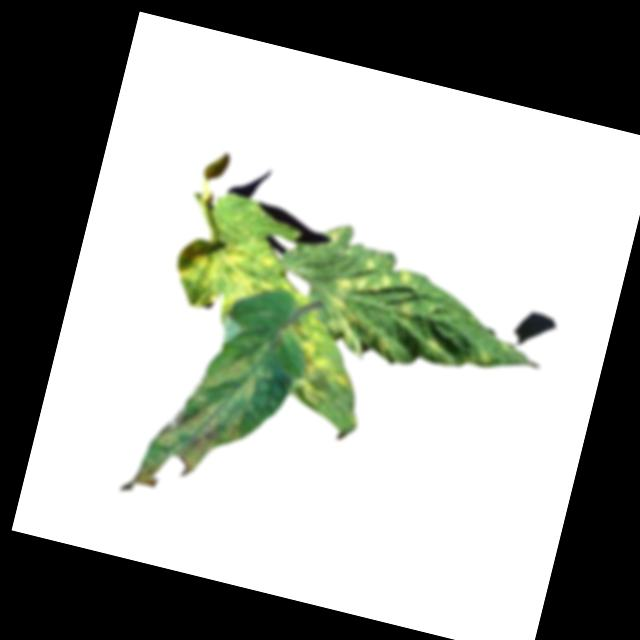Leaf_Mold: (126, 311, 280, 513), (314, 243, 423, 361), (168, 231, 290, 329), (272, 308, 367, 419)
